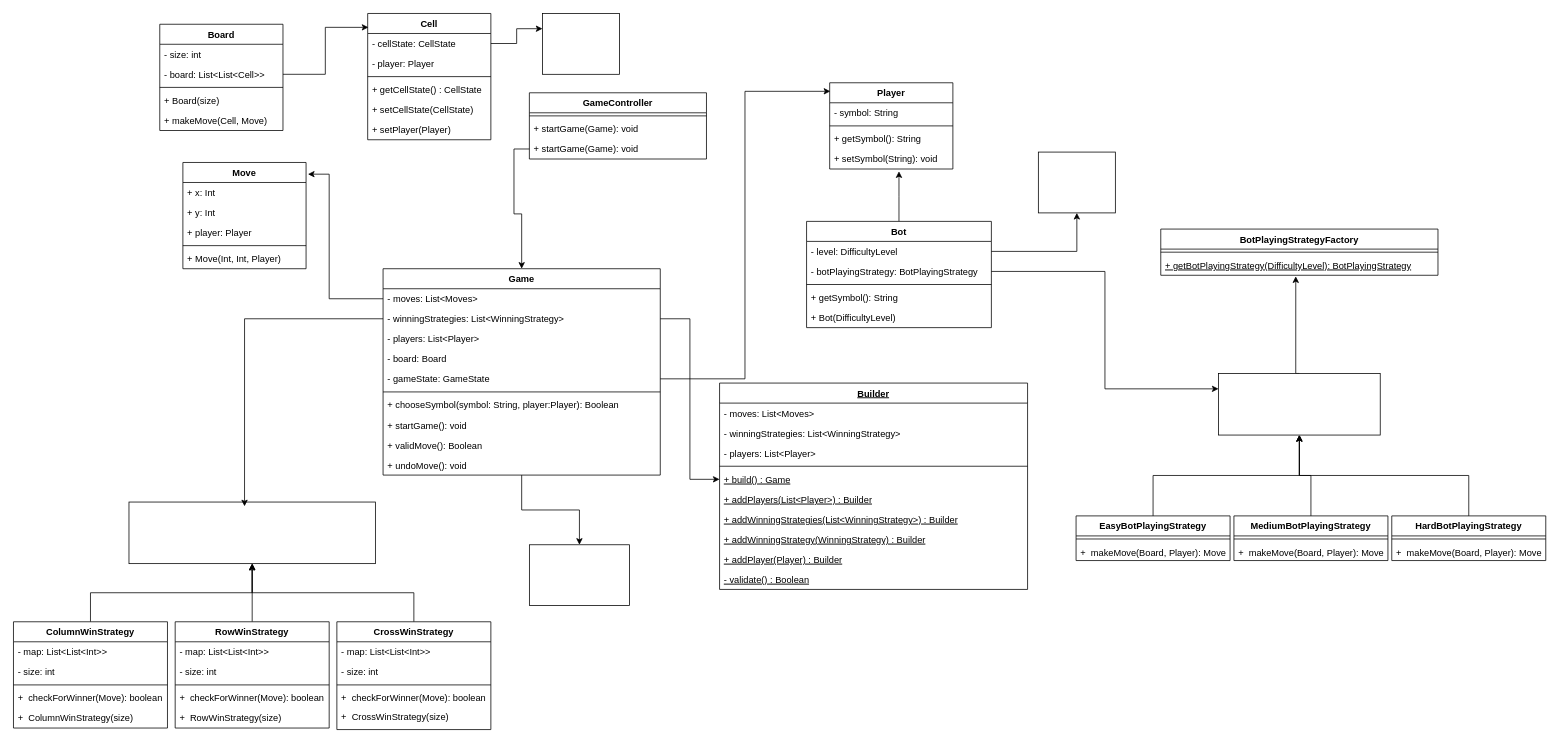
The diagram is 1559 pixels wide and 745 high, and some of its shapes have lost their labels. Here are the shapes that lost their labels. From the top down, the centre of each, then its label:
(580,43): CellState Empty, Filled, Blocked
(1076,182): DifficultyLevel Easy, Medium, Hard
(1299,404): <<BotPlayingStrategy>> Interface + makeMove(Board, Player): Move
(251,532): <<WinningStrategy>> Interface + checkForWinner(Move): Boolean
(579,575): GameState In_Progress, Draw, Success
